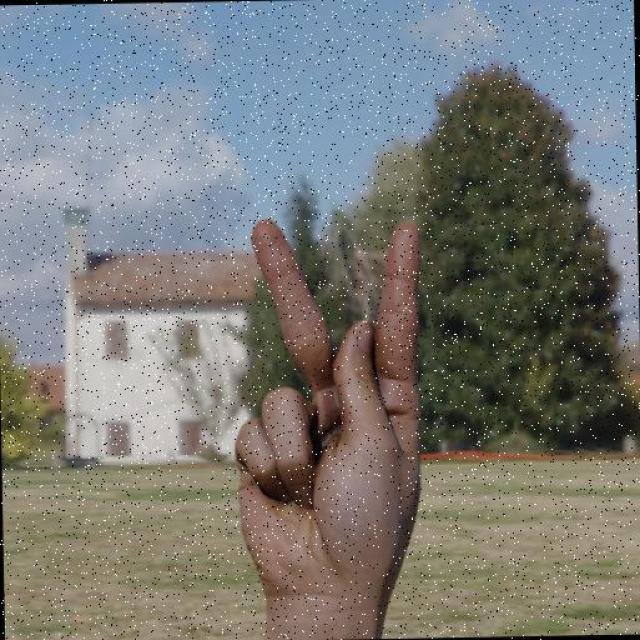K: (228, 215, 432, 607)
